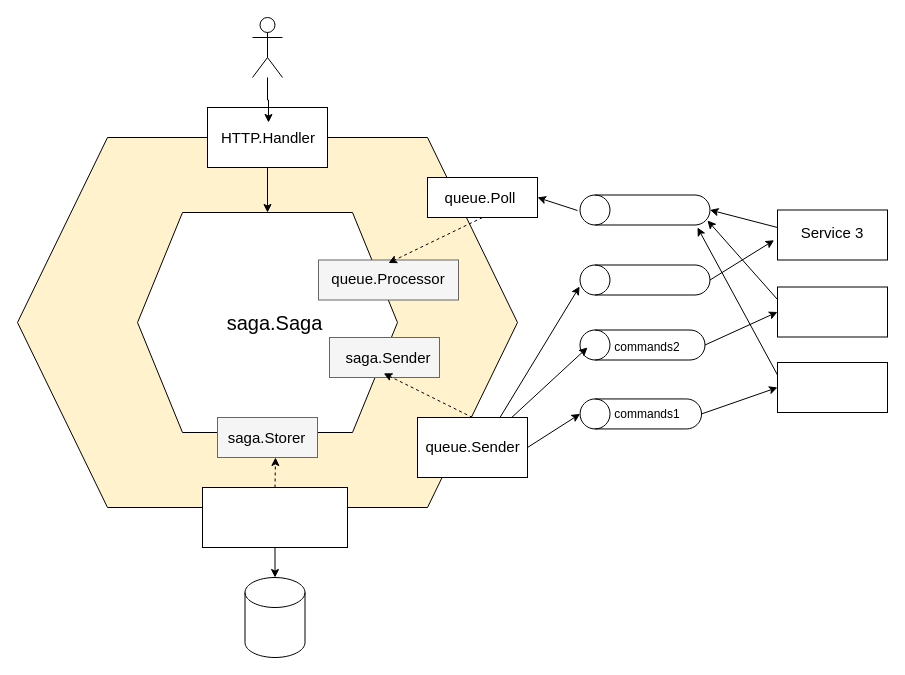
Some shapes in this 905 by 675 pixel diagram are drawn without their labels. The centre of each missing label's shape, as x and y in pixels:
commands3: point (644, 279)
database.Storage: point (275, 517)
responses: point (644, 209)
Service 1: point (832, 387)
Service 2: point (832, 311)
